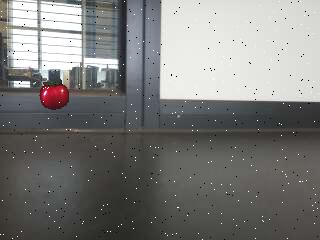Tomato: (41, 81, 69, 111)
